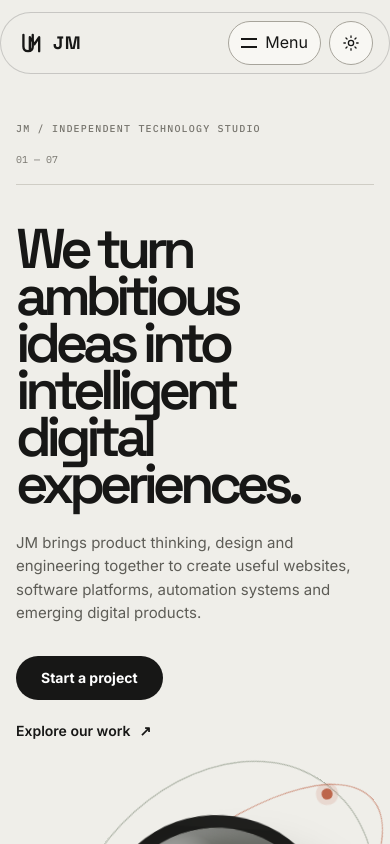
it: JM Technologies application › opens and closes the mobile menu with Escape
Click the button "Menu". click: (275, 43)
box: [228,21,321,65]
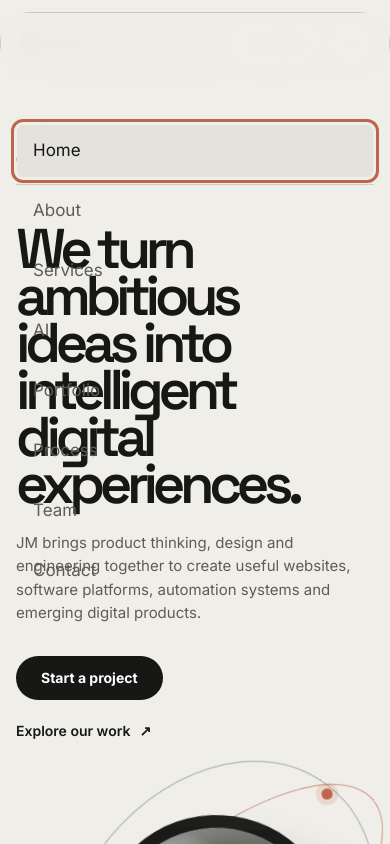
Press Escape
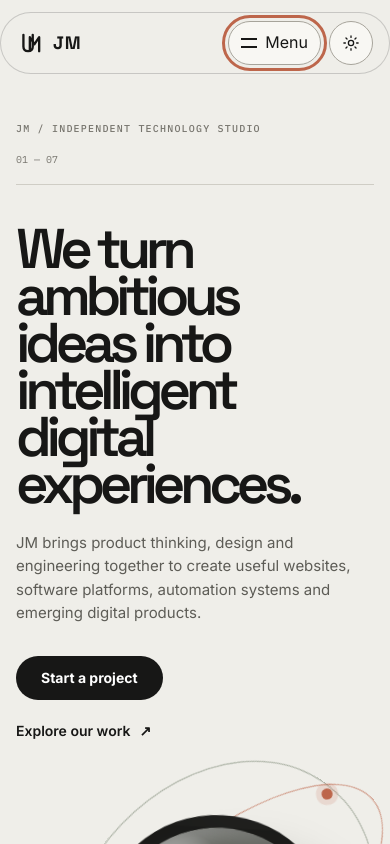
Check: the button "Menu" is collapsed, box [228,21,321,65]
